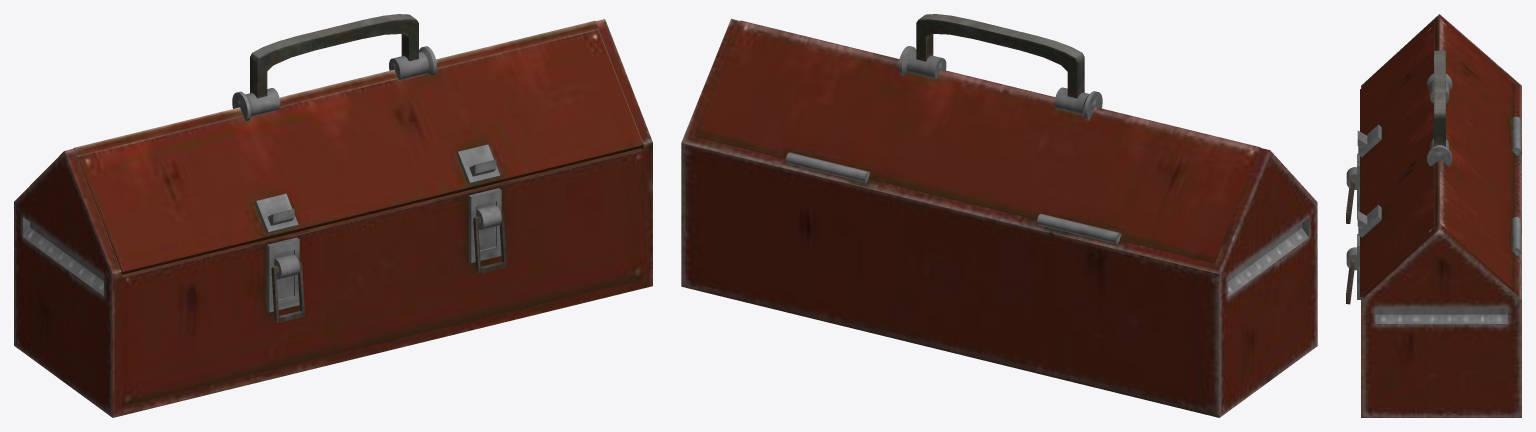
File: caja_herramientas.glb
3 views of the same model, side by side, from view 1: azimuth 30°, elevation 25°; view 2: azimuth 150°, elevation 25°; view 3: azimuth 270°, elevation 25° (orthographic). The views are drawn at different scales.
Parts seen in each view (by area): view 1: caja_herramientas; view 2: caja_herramientas; view 3: caja_herramientas.
Boxes of the visible parts, x1,y1,x2,y2 form: caja_herramientas: (14,14,652,417); caja_herramientas: (681,14,1317,417); caja_herramientas: (1346,14,1521,417).
Bounding box in the file's own units: 0.45 × 0.2276 × 0.1554.
3 materials, 3 textured.
